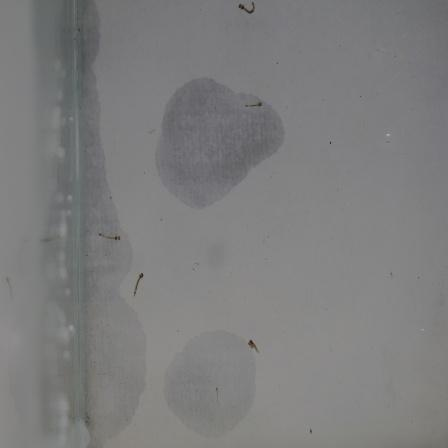Jentik-Nyamuk: (93, 226, 125, 251), (128, 268, 149, 303), (244, 333, 268, 361), (243, 96, 268, 113)
